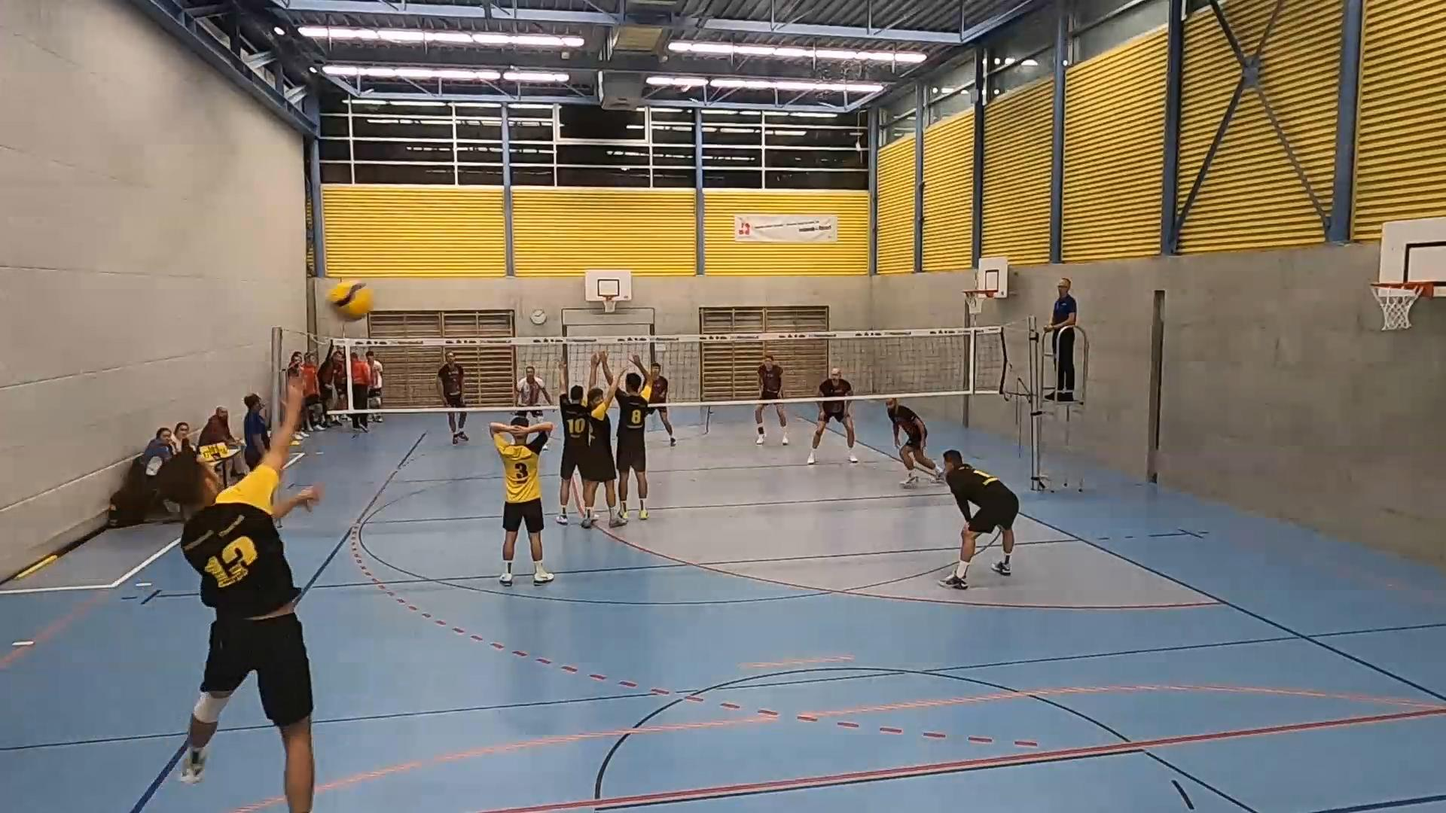Player: (939, 449, 1019, 588), (490, 416, 553, 586), (578, 352, 627, 528), (616, 355, 653, 519), (557, 347, 590, 523), (885, 398, 942, 486), (807, 367, 857, 464), (755, 353, 786, 445), (648, 362, 676, 445), (516, 365, 552, 419), (438, 352, 465, 410)
Serve: (164, 363, 317, 803)
ball: (323, 281, 376, 322)
